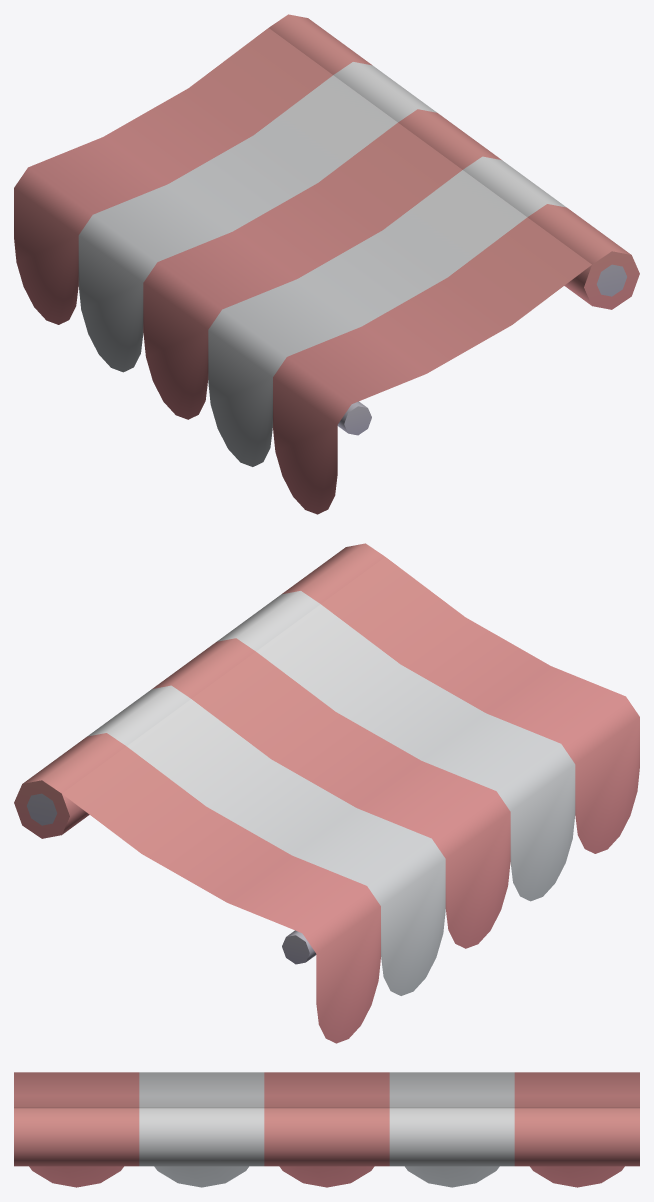
Rendered from awning-small (%wall).glb.
The picture shows the model from 3 angles, top to bottom: view 1: azimuth 30°, elevation 25°; view 2: azimuth 150°, elevation 25°; view 3: azimuth 270°, elevation 25°; orthographic projection. The views are drawn at different scales.
Visible parts, largest first — view 1: awning-small (%wall); view 2: awning-small (%wall); view 3: awning-small (%wall).
Part boxes in pixels (bbox=[...]): awning-small (%wall): bbox=[14, 14, 639, 514]; awning-small (%wall): bbox=[14, 543, 639, 1043]; awning-small (%wall): bbox=[14, 1072, 639, 1187].
Bounding box in the file's own units: 0.5395 × 0.3673 × 1.
